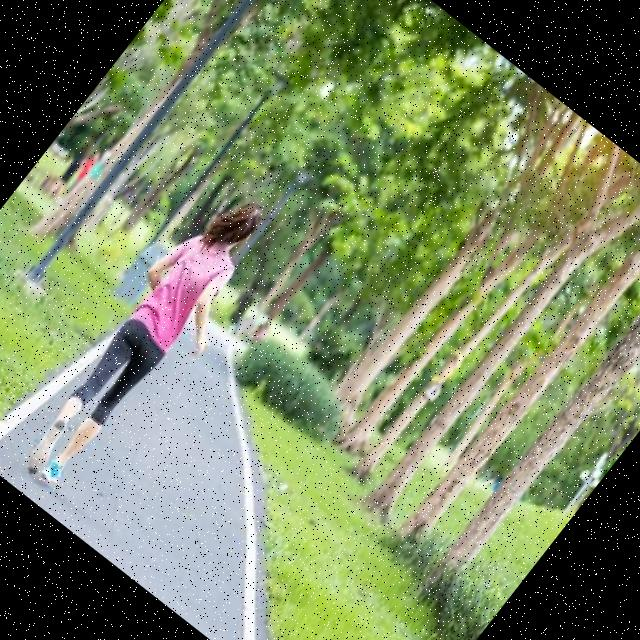Person: (3, 178, 293, 512)
